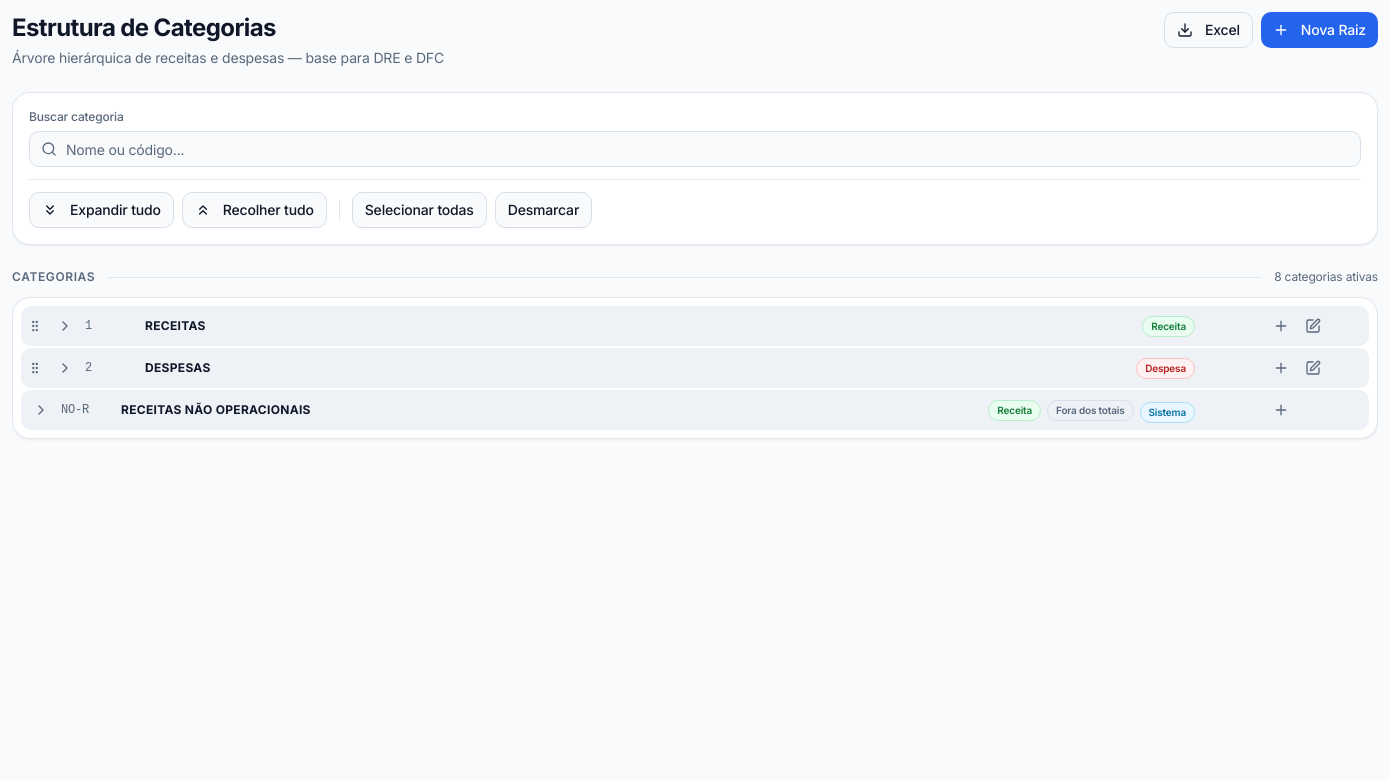
Test: Estrutura de Categorias (V2) › busca sem acento acha a categoria mesmo com o grupo recolhido
Expected: the text "RECEITAS" is shown, [145,318,206,334]
Expected: the text "Hortifrúti" is not shown
Type "hortifruti" into the search field labelled "Buscar categoria" at coordinates (695, 149), box [29,131,1361,167]
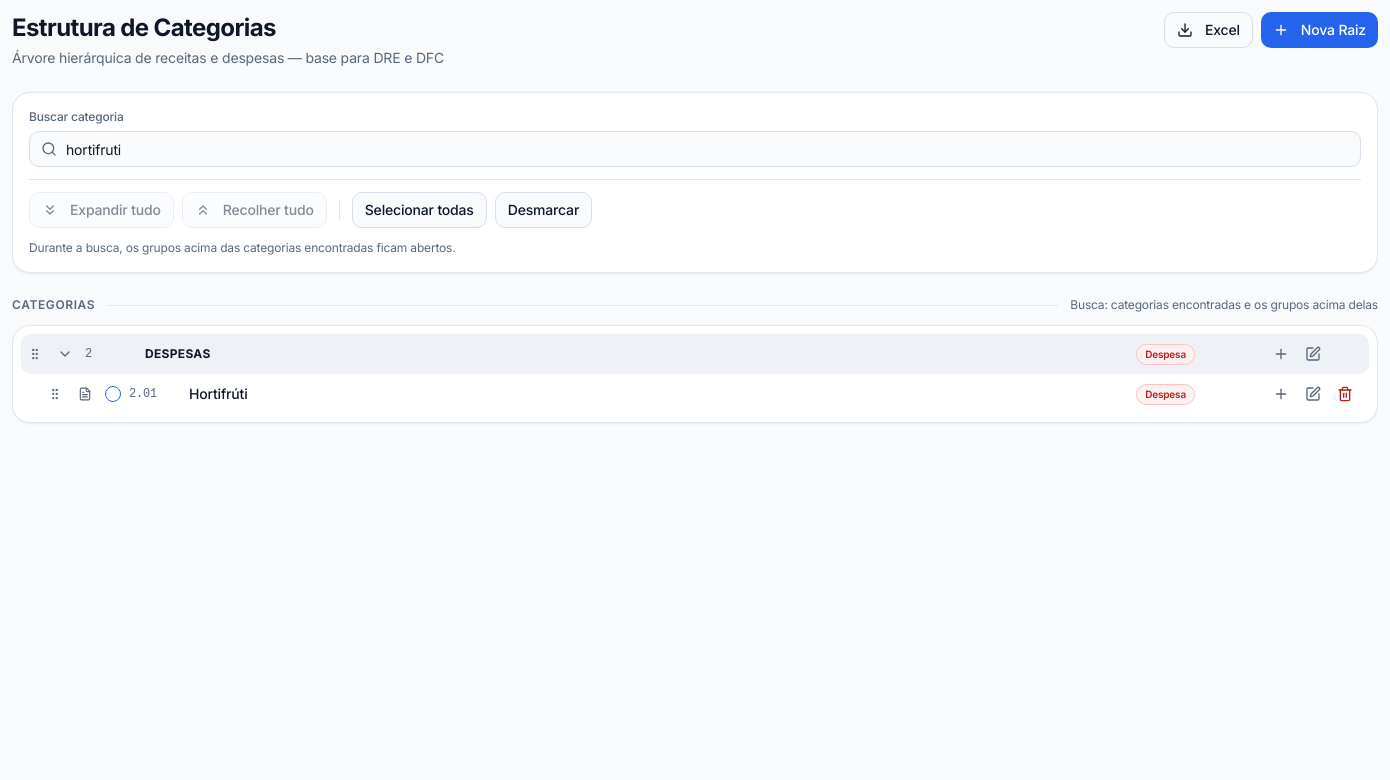
Expected: the text "Hortifrúti" is shown, [189,384,248,404]
Replace the text in the search field labelled "Buscar categoria" with "nada parecido" at coordinates (695, 149), box [29,131,1361,167]
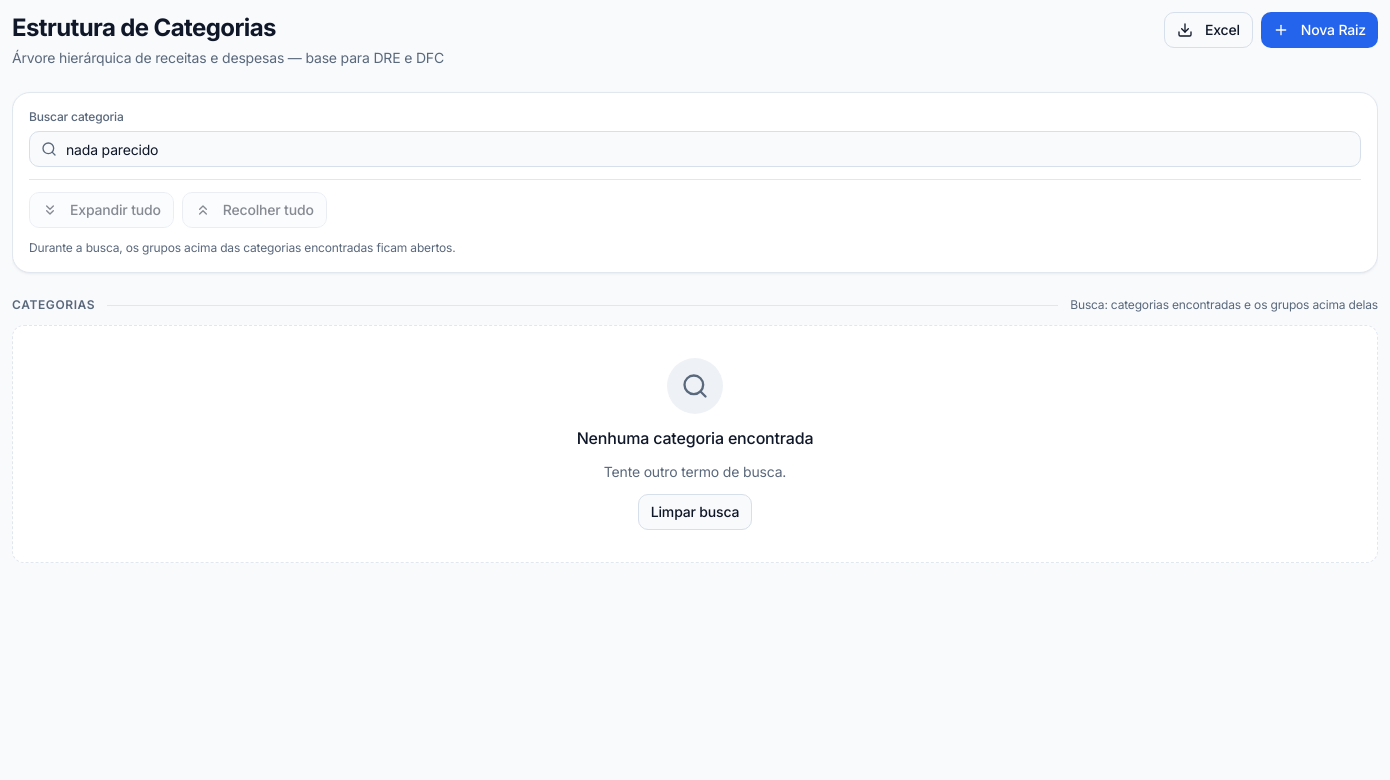
Expected: the text "Nenhuma categoria encontrada" is shown, [577,428,813,448]
Click the button "Limpar busca" at coordinates (695, 512), box [638,494,752,530]
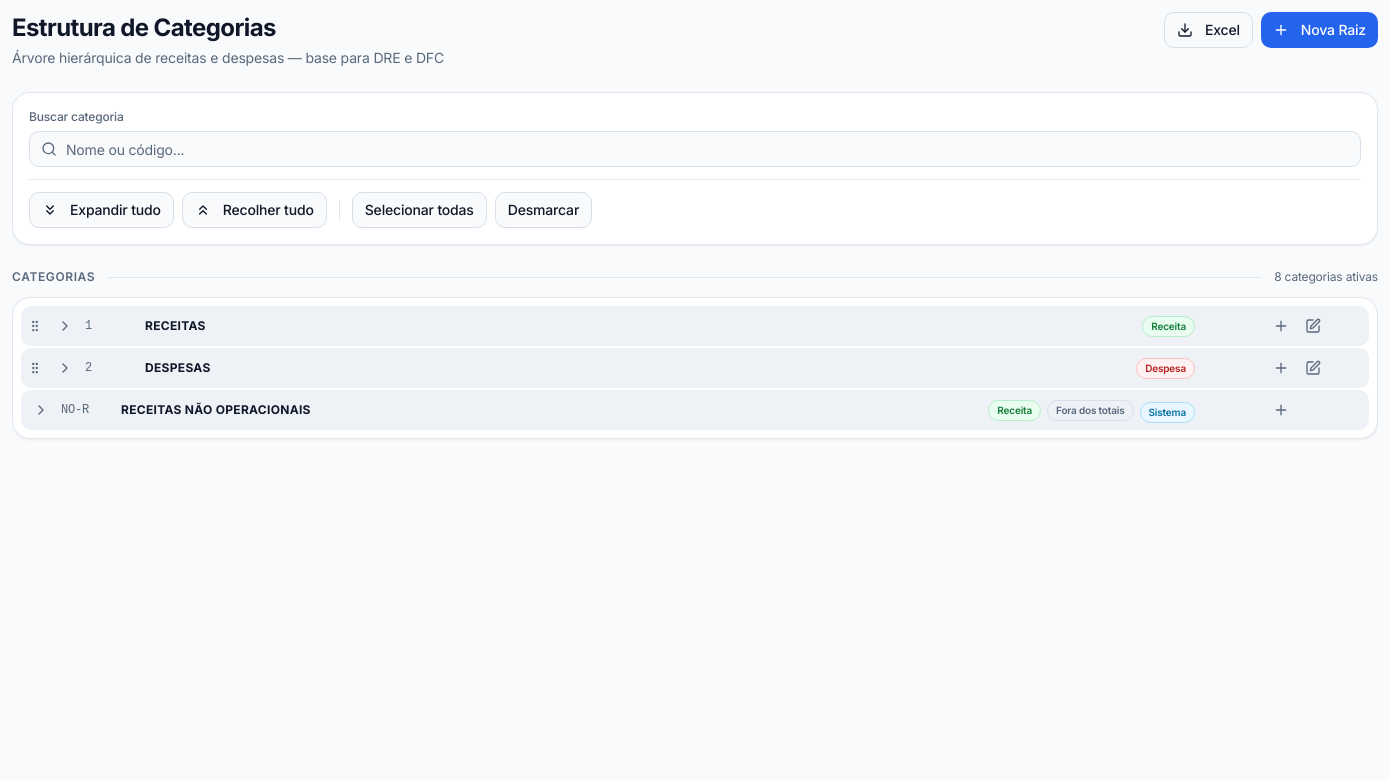
Expected: the text "RECEITAS" is shown, [145,318,206,334]
